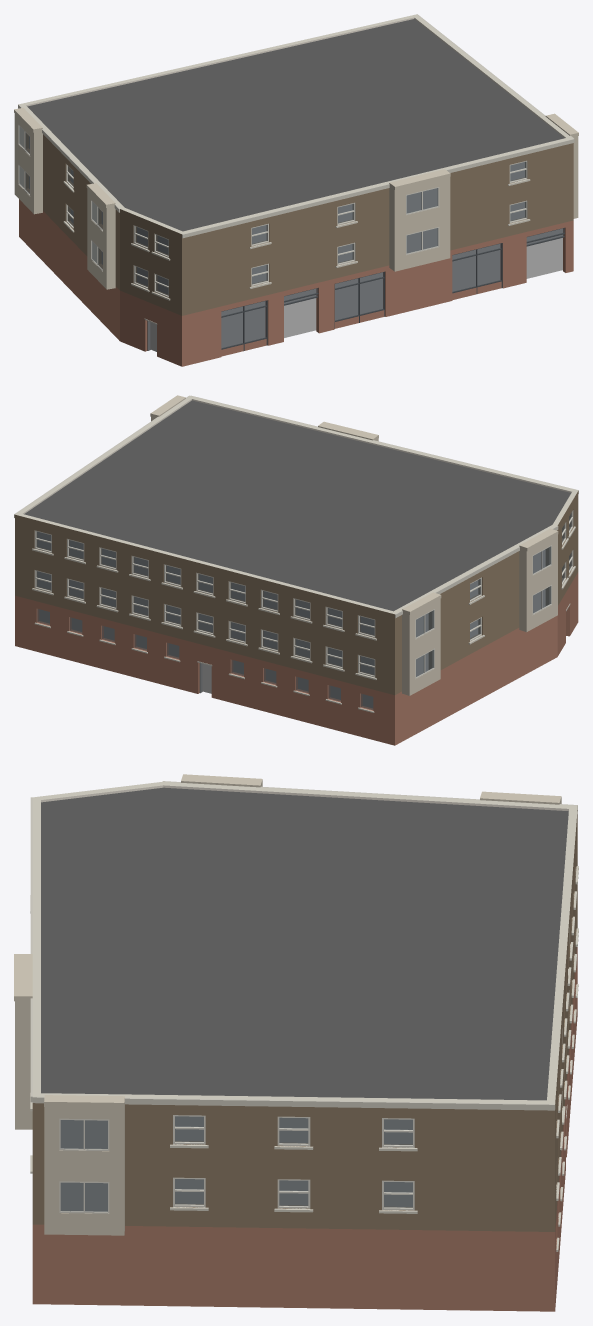
The model's file is exterior.glb.
3 renders of one model, top to bottom at view 1: azimuth 30°, elevation 25°; view 2: azimuth 150°, elevation 25°; view 3: azimuth 270°, elevation 25°, orthographic. The views are drawn at different scales.
Parts seen in each view (by area): view 1: roof, shell, shadow-proxy, glazing, bay-windows.001, bay-windows, storefront, frames, relief-3, bay-glazing, bay-glazing.001, bay-windows.002 (+1 smaller); view 2: shell, roof, glazing, shadow-proxy, bay-windows.001, frames, trim, bay-glazing.001, relief-1; view 3: roof, shell, bay-windows.002, shadow-proxy, glazing, bay-glazing.002, relief-4, bay-windows, trim, frames, bay-windows.001, relief-3.
Boxes of the visible parts, x1,y1,x2,y2 form: roof: [27, 19, 564, 231]; shell: [19, 14, 573, 366]; shadow-proxy: [29, 136, 562, 351]; glazing: [68, 161, 564, 348]; bay-windows.001: [14, 107, 115, 289]; bay-windows: [389, 169, 450, 271]; storefront: [144, 227, 564, 356]; frames: [66, 160, 527, 297]; relief-3: [182, 139, 573, 238]; bay-glazing: [406, 187, 439, 254]; bay-glazing.001: [18, 124, 102, 271]; bay-windows.002: [545, 113, 578, 218]; shell: [15, 396, 578, 745]; roof: [24, 400, 571, 611]; glazing: [36, 512, 571, 709]; shadow-proxy: [37, 532, 545, 707]; bay-windows.001: [402, 528, 558, 695]; frames: [34, 510, 573, 677]; trim: [32, 526, 575, 712]; bay-glazing.001: [415, 545, 551, 678]; relief-1: [395, 526, 558, 617]; roof: [41, 787, 568, 1100]; shell: [32, 781, 577, 1311]; bay-windows.002: [44, 1095, 124, 1235]; shadow-proxy: [61, 1116, 412, 1211]; glazing: [175, 1116, 412, 1207]; bay-glazing.002: [59, 1118, 109, 1213]; relief-4: [32, 1096, 555, 1110]; bay-windows: [14, 954, 32, 1129]; trim: [30, 866, 578, 1251]; frames: [173, 927, 569, 1210]; bay-windows.001: [181, 774, 561, 804]; relief-3: [30, 797, 32, 1102].
Size of the model in its own units: 30.99 by 9.2 by 22.5.
